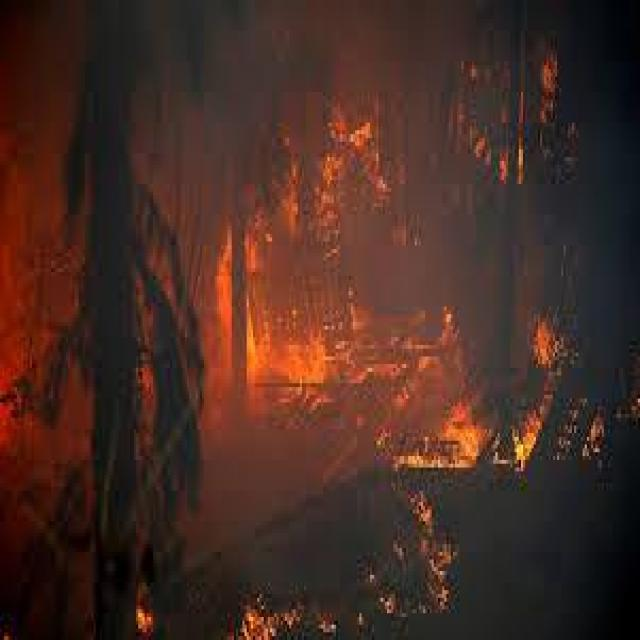fire: (187, 179, 472, 454)
smoke: (189, 0, 463, 210)
